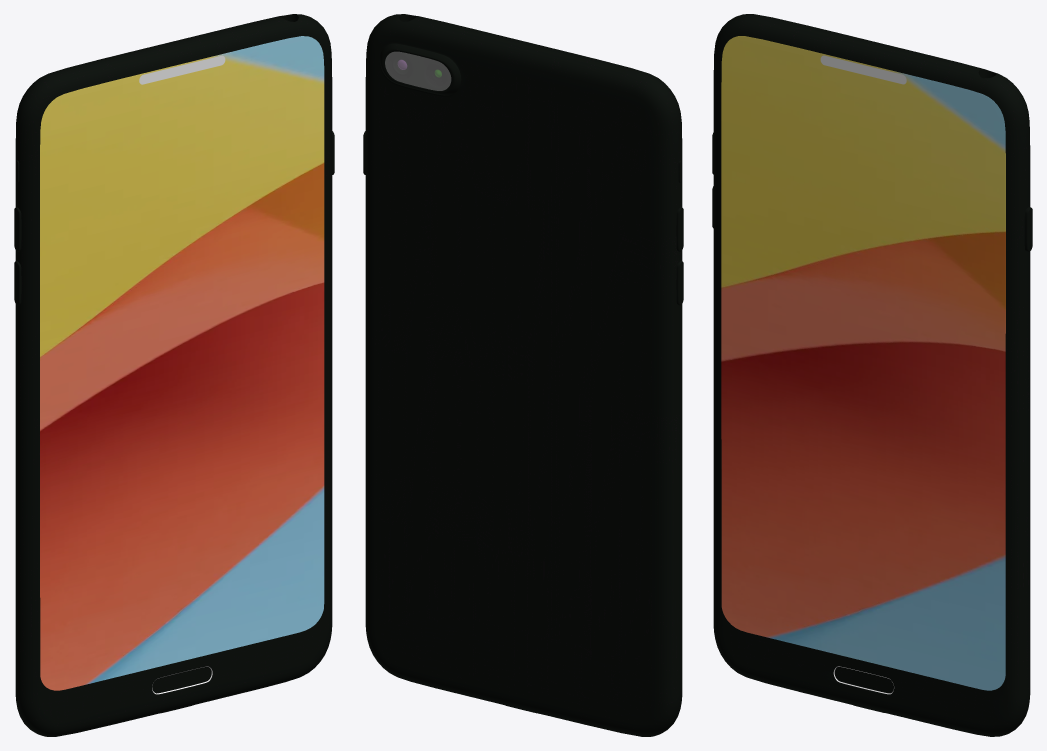
Rendered from smartphone-transformed.glb.
The picture shows the model from 3 angles, left to right: view 1: azimuth 30°, elevation 25°; view 2: azimuth 150°, elevation 25°; view 3: azimuth 330°, elevation 25°; orthographic projection.
Parts seen in each view (by area): view 1: Object_9, Object_2, Object_8; view 2: Object_2, Object_4; view 3: Object_9, Object_2, Object_8.
Boxes of the visible parts, box(x1,y1,x2,y2) form: Object_9: box(40, 36, 324, 690); Object_2: box(14, 14, 334, 736); Object_8: box(139, 55, 225, 84); Object_2: box(363, 14, 683, 736); Object_4: box(385, 51, 451, 90); Object_9: box(721, 36, 1005, 690); Object_2: box(712, 14, 1032, 736); Object_8: box(820, 55, 906, 84).
Bounding box in the file's own units: 3.44 × 6.91 × 0.3646.
Materials: 4 (4 with a texture image).
